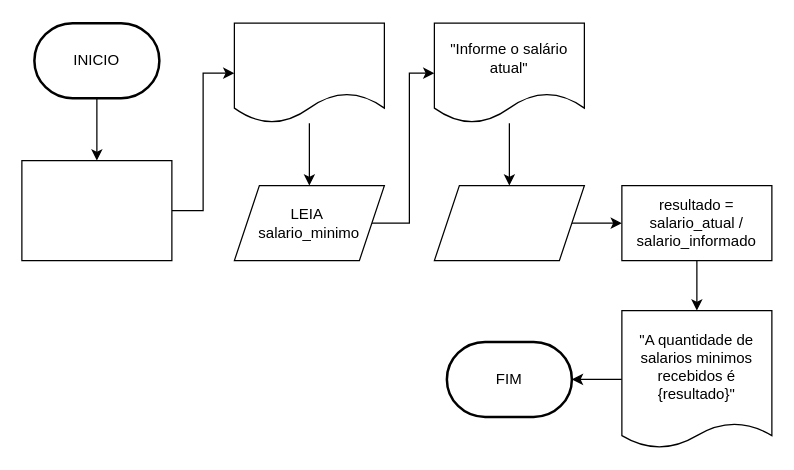
Image size: 794x470. Some labels were removed from this diagram. The shapes that lost their labels are listed below. From the top down, each one's centre as x and y in pixels, then its label:
point (308, 72): "Informe o salário mínimo atual"
point (96, 210): DECLARE salario_minimo, salario_informado, resultado
point (508, 222): LEIA salario_informado
